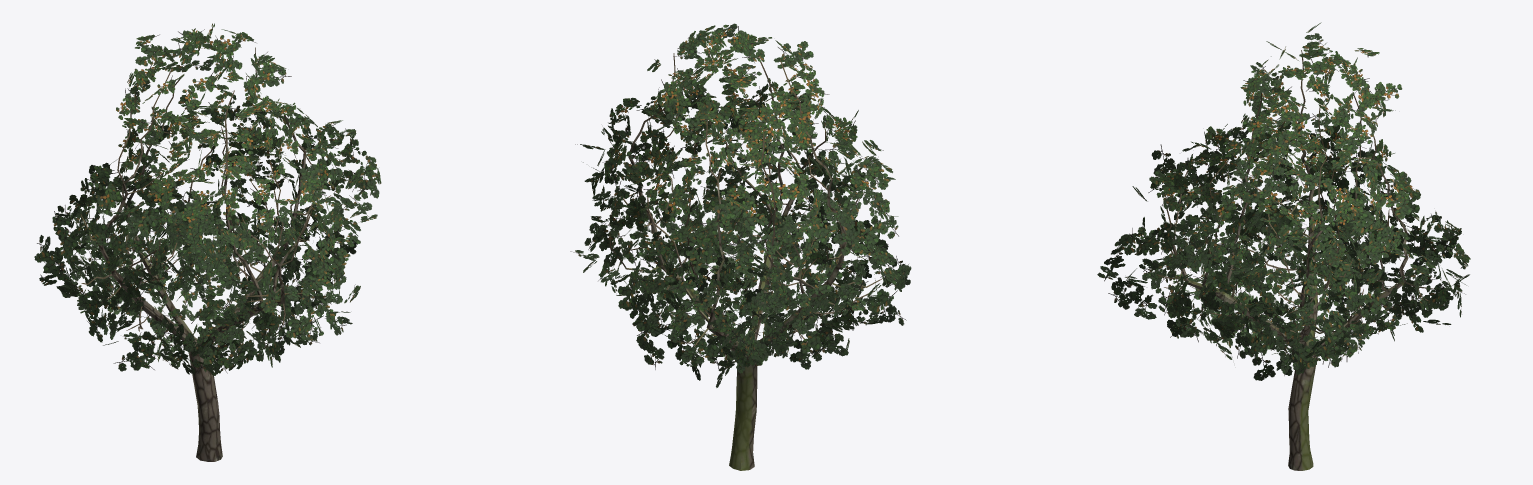
File: field_maple.glb
3 views of the same model, side by side, from view 1: azimuth 30°, elevation 25°; view 2: azimuth 150°, elevation 25°; view 3: azimuth 270°, elevation 25° (orthographic). The views are drawn at different scales.
Parts seen in each view (by area): view 1: field_maple_cards_LOD0, field_maple_LOD0; view 2: field_maple_cards_LOD0, field_maple_LOD0; view 3: field_maple_cards_LOD0, field_maple_LOD0.
Part boxes in pixels (x1,y1,x2,y2): field_maple_cards_LOD0: [34, 23, 381, 375]; field_maple_LOD0: [80, 47, 330, 461]; field_maple_cards_LOD0: [570, 23, 911, 387]; field_maple_LOD0: [609, 53, 882, 470]; field_maple_cards_LOD0: [1097, 22, 1470, 380]; field_maple_LOD0: [1156, 50, 1434, 470].
Size of what is drawn, in the model's own units: 10.14 by 10.97 by 10.07.
Materials: 2 (2 with a texture image).
